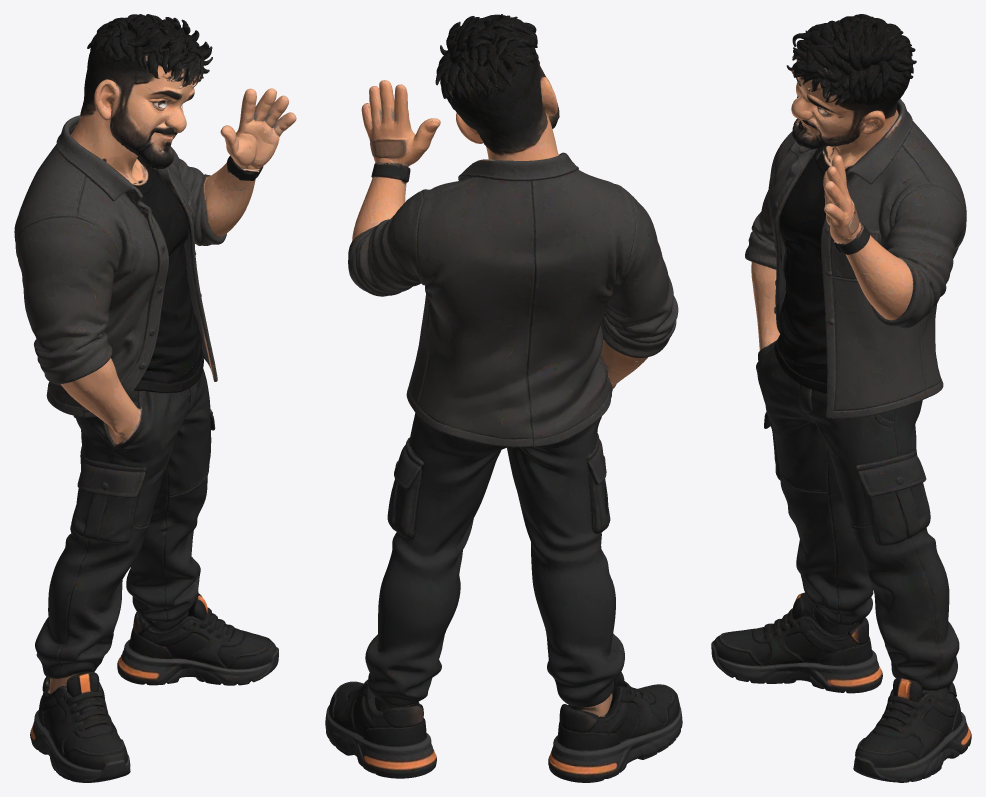
Rendered from person-detailed.glb.
The picture shows the model from 3 angles, left to right: view 1: azimuth 30°, elevation 25°; view 2: azimuth 150°, elevation 25°; view 3: azimuth 270°, elevation 25°; orthographic projection. The views are drawn at different scales.
Parts seen in each view (by area): view 1: Object_01; view 2: Object_01; view 3: Object_01.
Boxes of the visible parts, box(x1,y1,x2,y2) form: Object_01: box(14, 14, 296, 782); Object_01: box(325, 14, 682, 782); Object_01: box(711, 14, 971, 782).
Bounding box in the file's own units: 0.8033 × 1.9 × 0.6385.
1 material, 1 textured.
